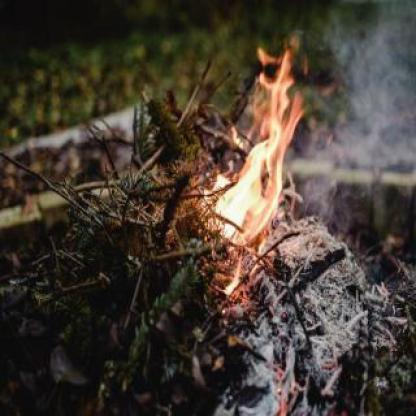fire: (199, 27, 313, 287)
